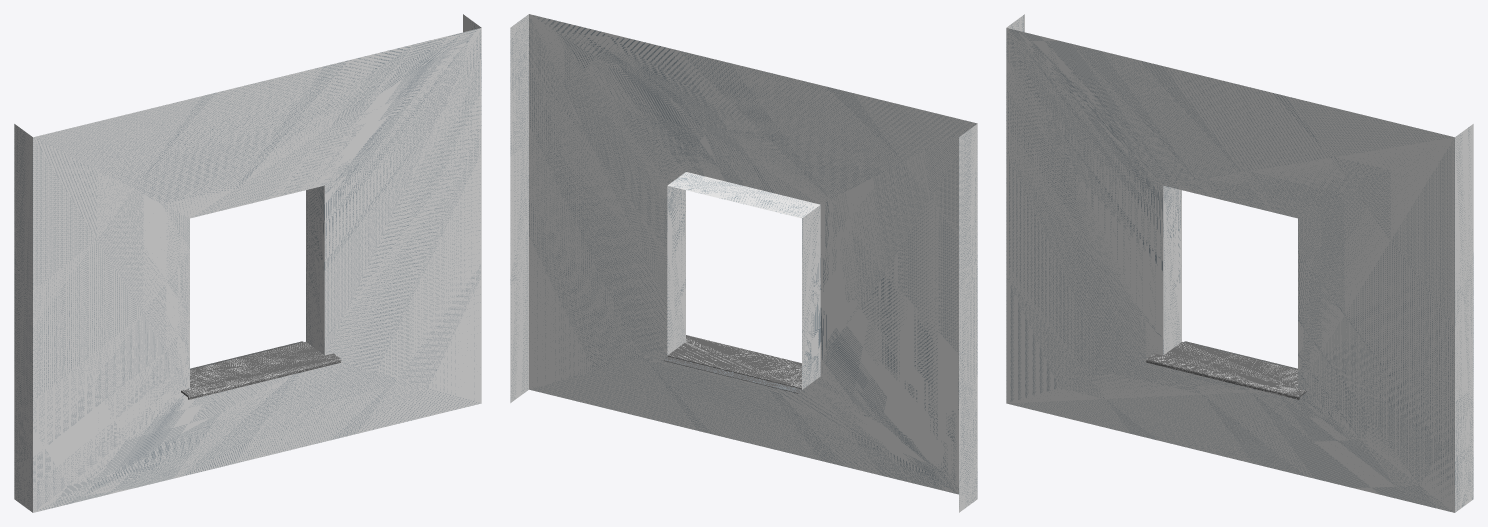
The model's file is WindowBlock_os_[500x400]_150x181x[090].dae.
The picture shows the model from 3 angles, left to right: view 1: azimuth 30°, elevation 25°; view 2: azimuth 150°, elevation 25°; view 3: azimuth 330°, elevation 25°; orthographic projection.
Parts seen in each view (by area): view 1: group_1 (×2), group_2; view 2: group_1 (×2), group_2 (×2); view 3: group_1 (×2), group_2.
Part boxes in pixels (bbox=[...]): group_1 (×2): bbox=[14, 14, 481, 512]; group_2: bbox=[181, 342, 341, 399]; group_1 (×2): bbox=[510, 14, 977, 512]; group_2 (×2): bbox=[663, 335, 801, 393]; group_1 (×2): bbox=[1006, 14, 1473, 512]; group_2: bbox=[1146, 342, 1306, 399].
Bounding box in the file's own units: 197 × 23.03 × 157.
